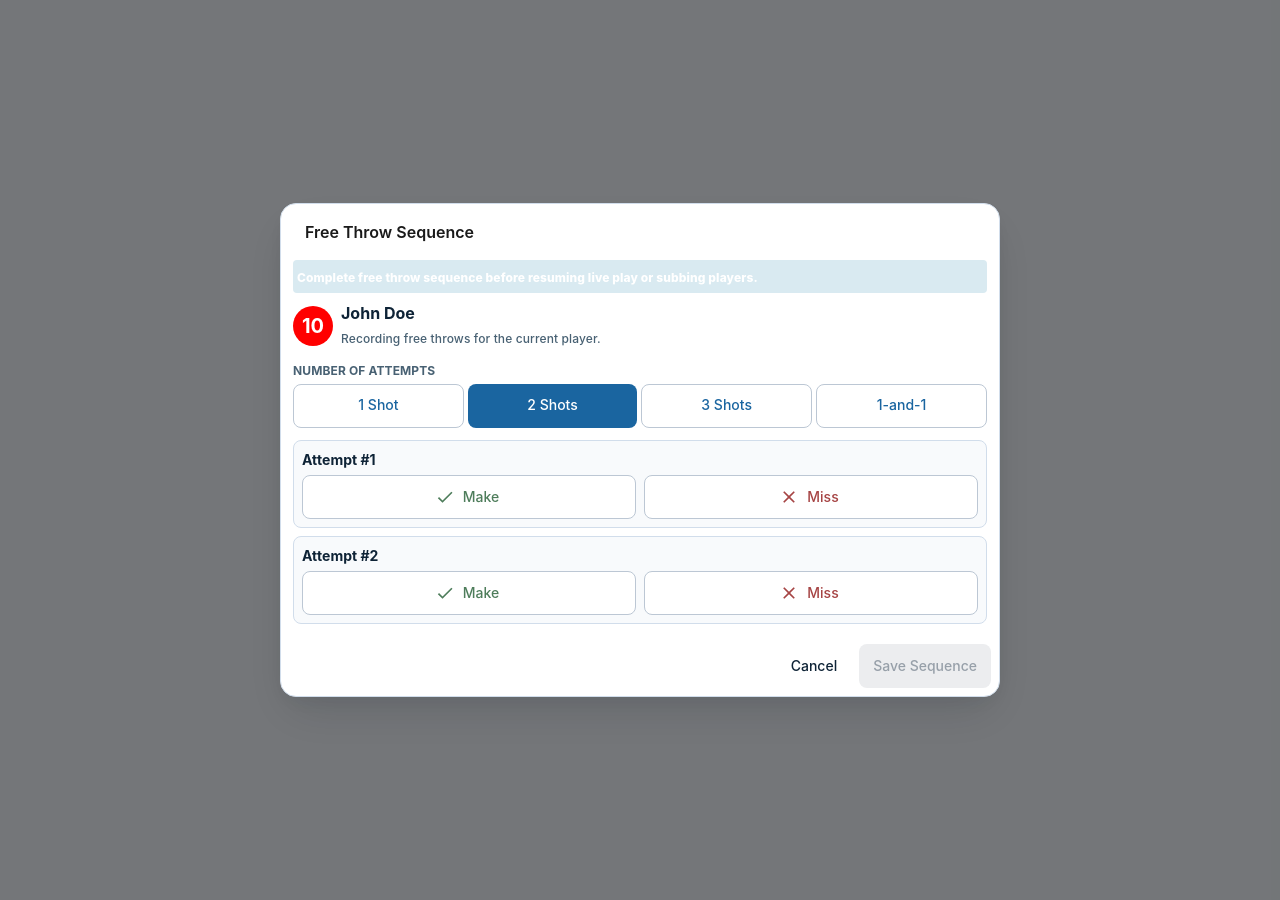
Test case: FreeThrowWorkflowDialog › allows changing the number of attempts
This screenshot has width=1280, height=900.
Expected: the number of headings "Attempt #1" is 2, [302, 451, 376, 468]; [302, 547, 378, 564]
Click the button "3 Shots". click: click(727, 406)
box: [641, 384, 812, 428]
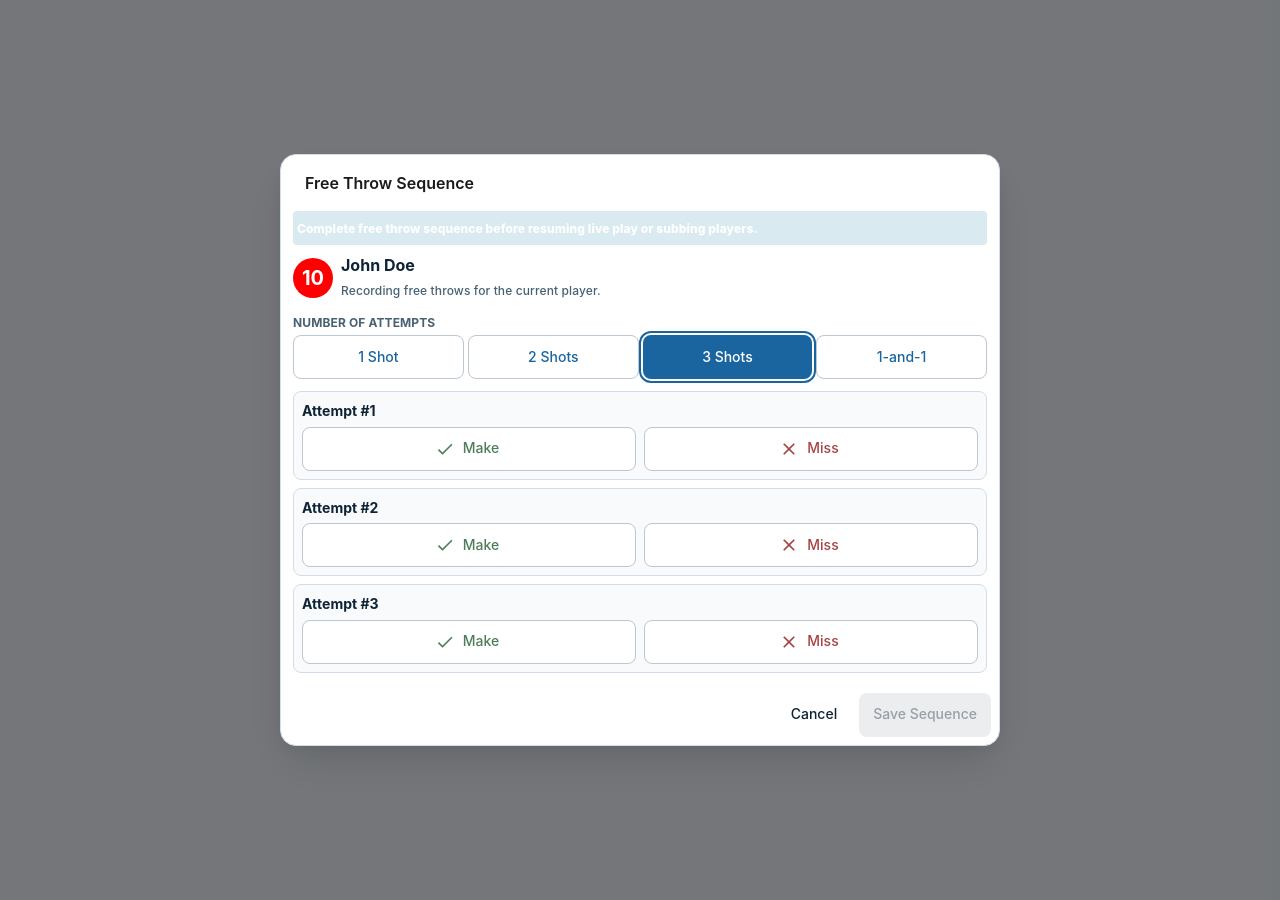
Result: the number of headings "Attempt #1" is 3 at [302, 402, 376, 419]; [302, 499, 378, 516]; [302, 595, 379, 612]
Click the button "1 Shot". click: click(378, 357)
box: [293, 335, 464, 379]
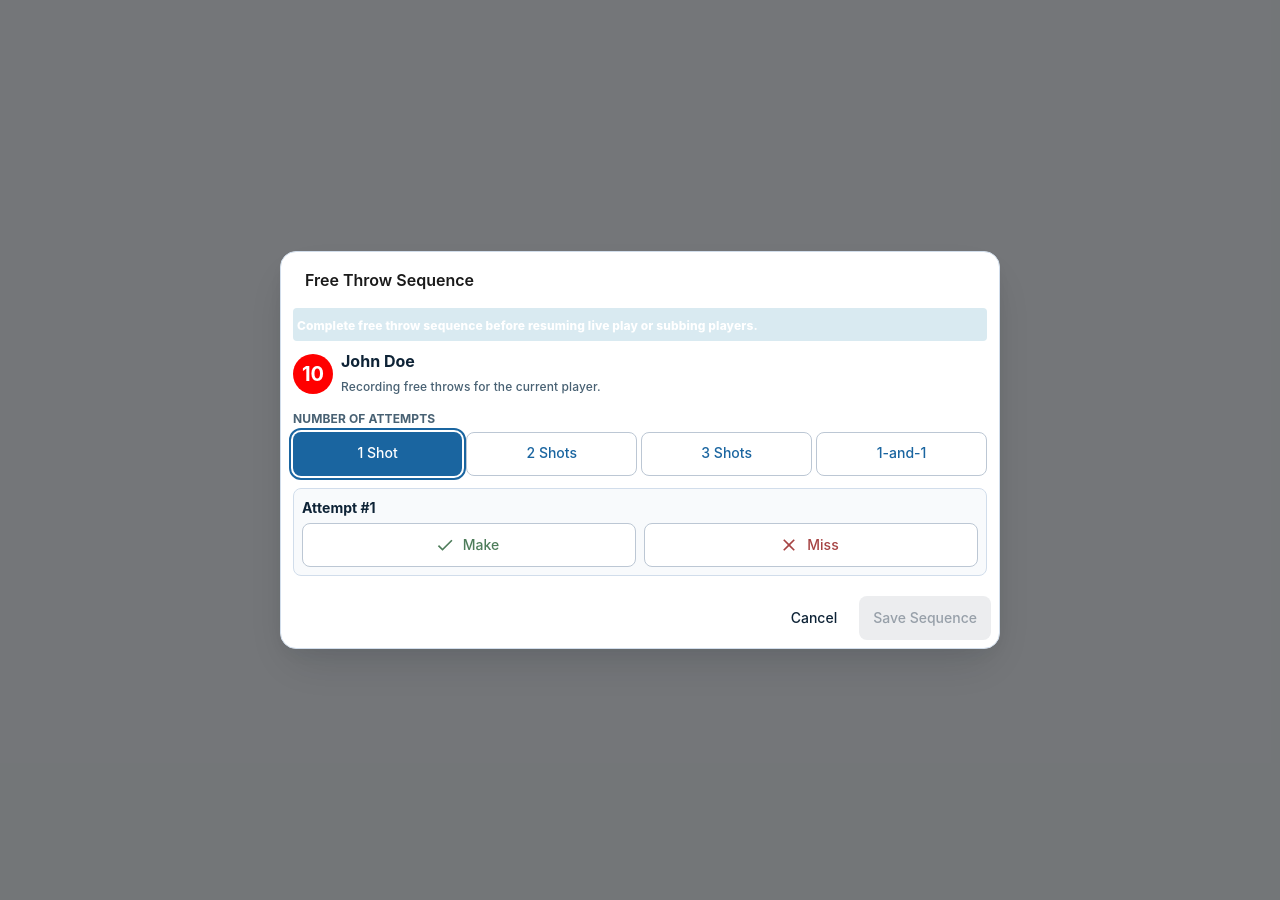
Result: the number of headings "Attempt #1" is 1 at [302, 499, 376, 516]
